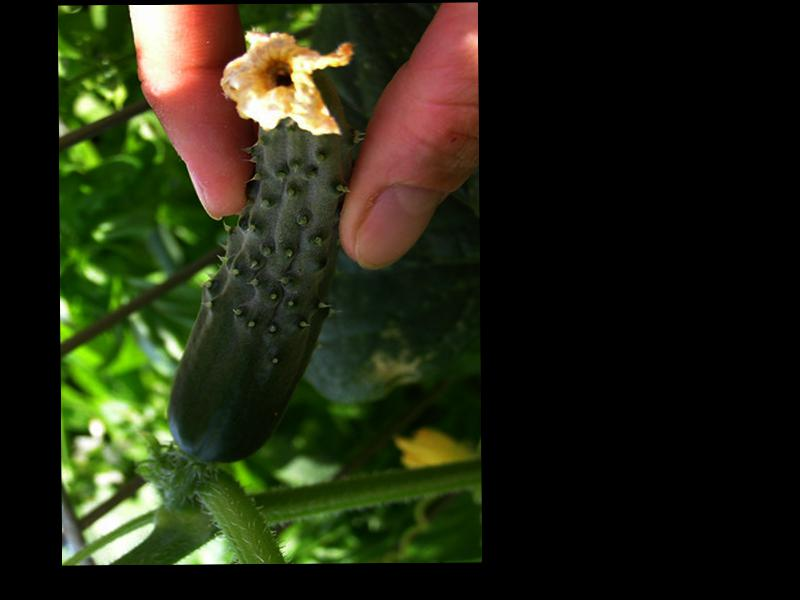Cucumber: (166, 30, 356, 465)
